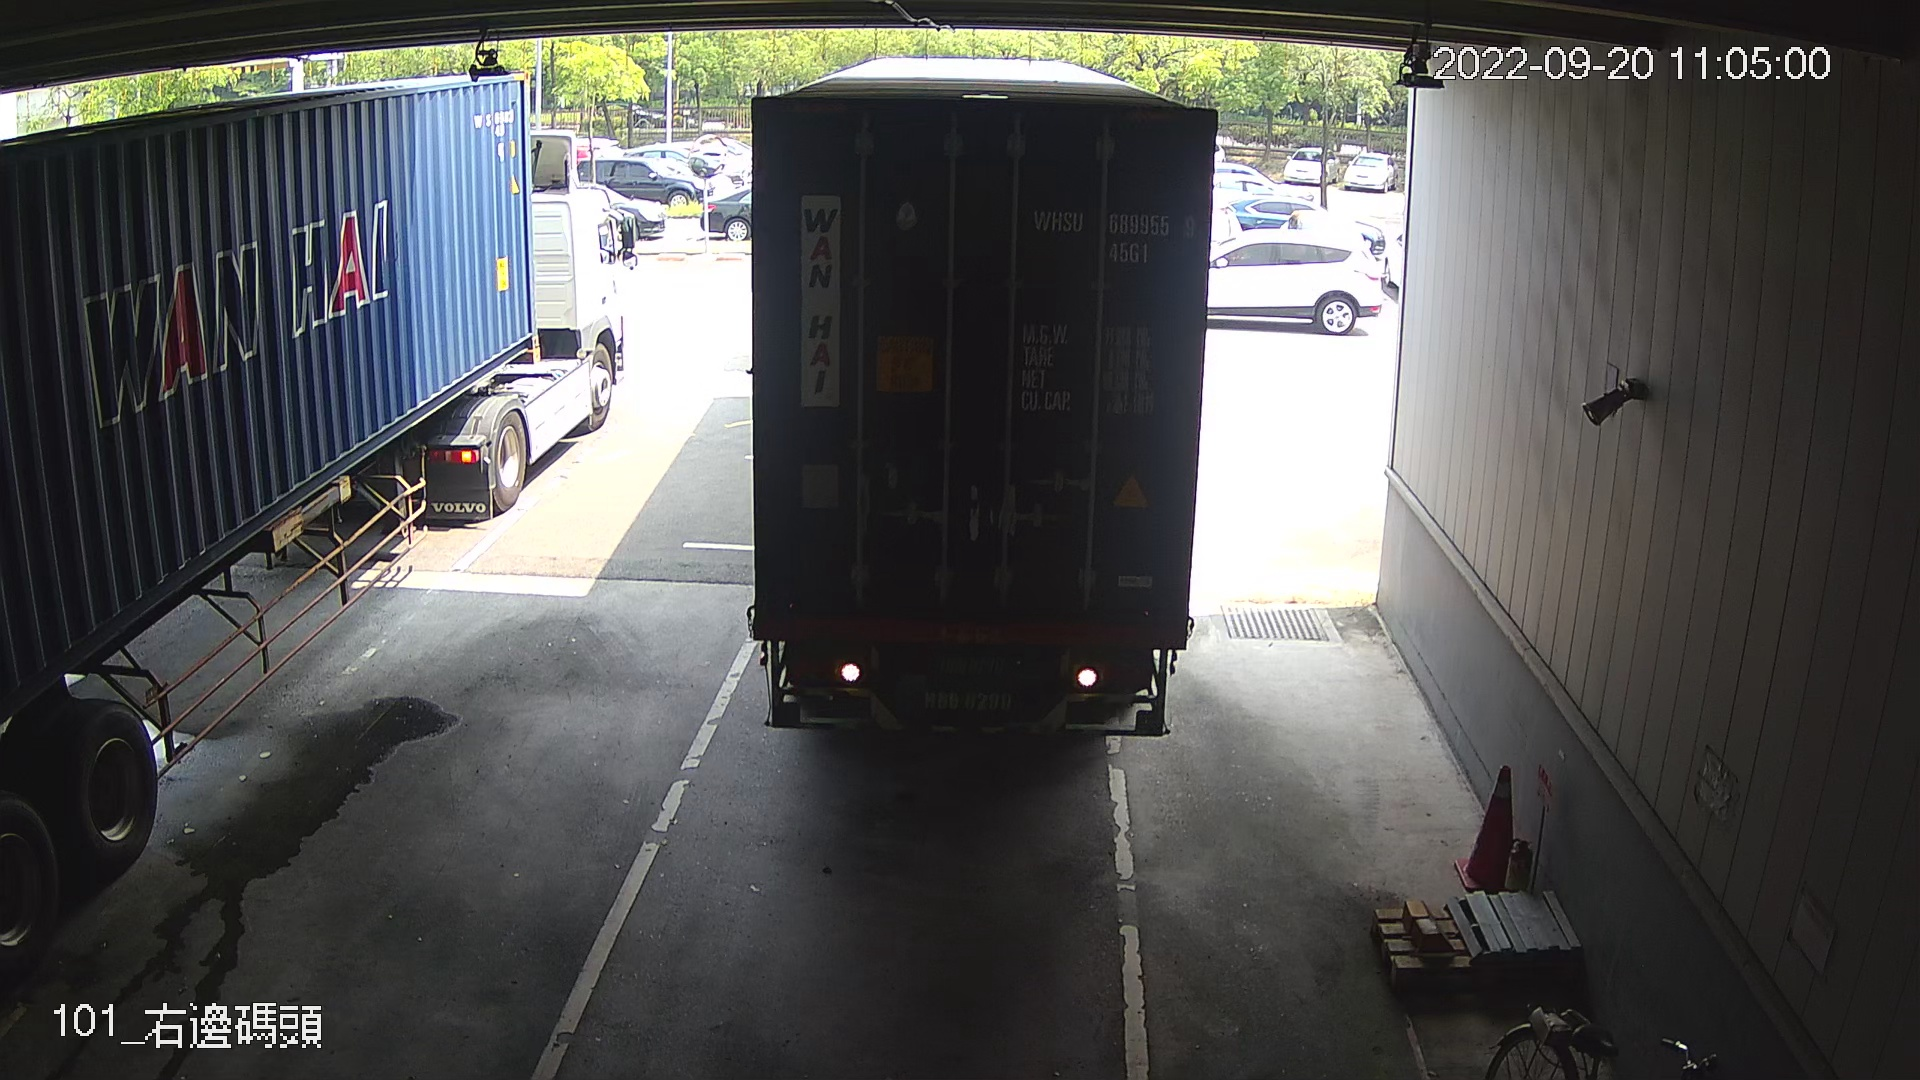container: (1023, 196, 1201, 273)
